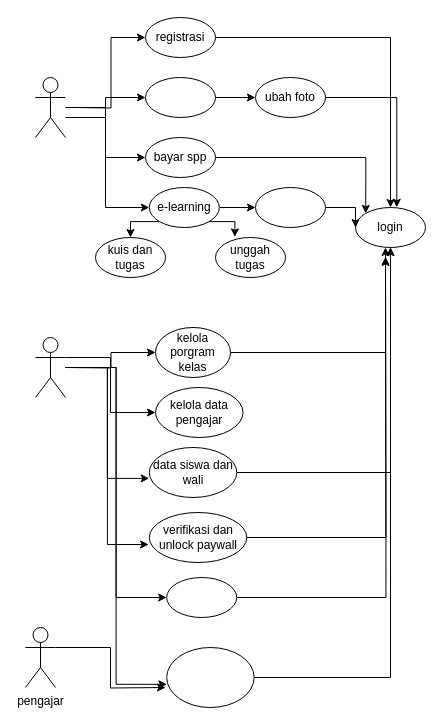
Some shapes in this 443 by 726 pixel diagram are drawn without their labels. The centre of each missing label's shape, as x and y in pixels:
"admin" goes at (x=50, y=367).
"kelola profil" goes at (x=180, y=97).
"laporan keuangan" goes at (x=201, y=597).
"org tua" goes at (x=50, y=107).
"upload mdul,kuis dan kuis" goes at (x=210, y=677).
"verifikasi" goes at (x=290, y=207).
